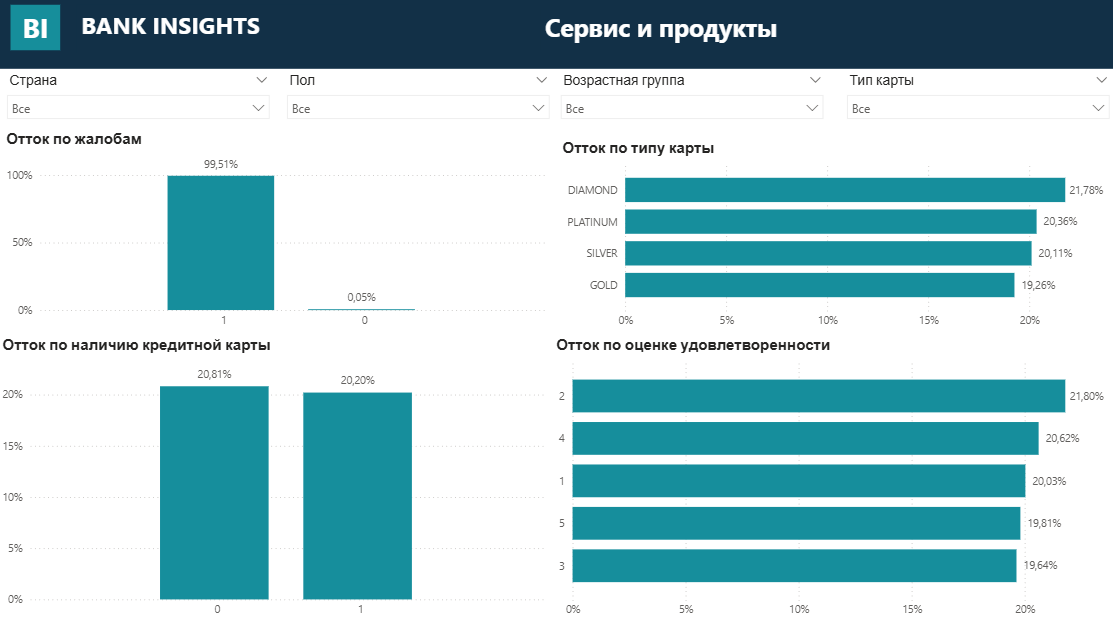

The dashboard page shown, as its layout file describes it:
{"tool":"powerbi","page":{"name":"Сервис и продукты","canvas":[1280,720],"ordinal":2},"visuals":[{"type":"slicer","fields":{"Values":["Customers.Geography"]},"box":[0,82.5,320,62.5],"z":0},{"type":"slicer","fields":{"Values":["Customers.Gender"]},"box":[320,82.5,320,62.5],"z":1000},{"type":"slicer","fields":{"Values":["Customers.AgeGroup"]},"box":[632.5,82.5,320,61.2],"z":2000},{"type":"slicer","fields":{"Values":["Customers.Card Type"]},"box":[960,82.5,320,61.2],"z":3000},{"type":"clusteredBarChart","title":"Отток по оценке удовлетворенности","fields":{"Category":["Customers.Satisfaction Score"],"Y":["Меры.Уровень оттока"]},"box":[632.5,388.8,647.5,331.2],"z":4000},{"type":"barChart","title":"Отток по типу карты","fields":{"Category":["Customers.Card Type"],"Y":["Меры.Уровень оттока"]},"box":[640,162.5,640,226.2],"z":5000},{"type":"clusteredColumnChart","title":"Отток по наличию кредитной карты","fields":{"Y":["Меры.Уровень оттока"],"Category":["Customers.HasCrCard"]},"box":[0,388.8,632.5,331.2],"z":6000},{"type":"clusteredColumnChart","title":"Отток по жалобам","fields":{"Y":["Меры.Уровень оттока"],"Category":["Customers.Complain"]},"box":[3.8,152.5,628.8,236.2],"z":7000},{"type":"textbox","box":[0,0,1279,83],"z":8000},{"type":"textbox","box":[90,10,310,54],"z":9000},{"type":"textbox","box":[620,12,635,50],"z":10000},{"type":"textbox","box":[14.6,10,56.9,52.3],"z":11000}]}

Visuals, with their boxes in screenshot pixels (x1, y1, x2, y2), scaled from the page's 1280x720 canvas onto the 1113x626 screenshot:
slicer - Customers.Geography: rect(0, 72, 278, 126)
slicer - Customers.Gender: rect(278, 72, 556, 126)
slicer - Customers.AgeGroup: rect(550, 72, 828, 125)
slicer - Customers.Card Type: rect(835, 72, 1112, 125)
"Отток по оценке удовлетворенности" clusteredBarChart: rect(550, 338, 1112, 625)
"Отток по типу карты" barChart: rect(556, 141, 1112, 338)
"Отток по наличию кредитной карты" clusteredColumnChart: rect(0, 338, 550, 625)
"Отток по жалобам" clusteredColumnChart: rect(3, 133, 550, 338)
textbox: rect(0, 0, 1112, 72)
textbox: rect(78, 9, 348, 56)
textbox: rect(539, 10, 1091, 54)
textbox: rect(13, 9, 62, 54)
